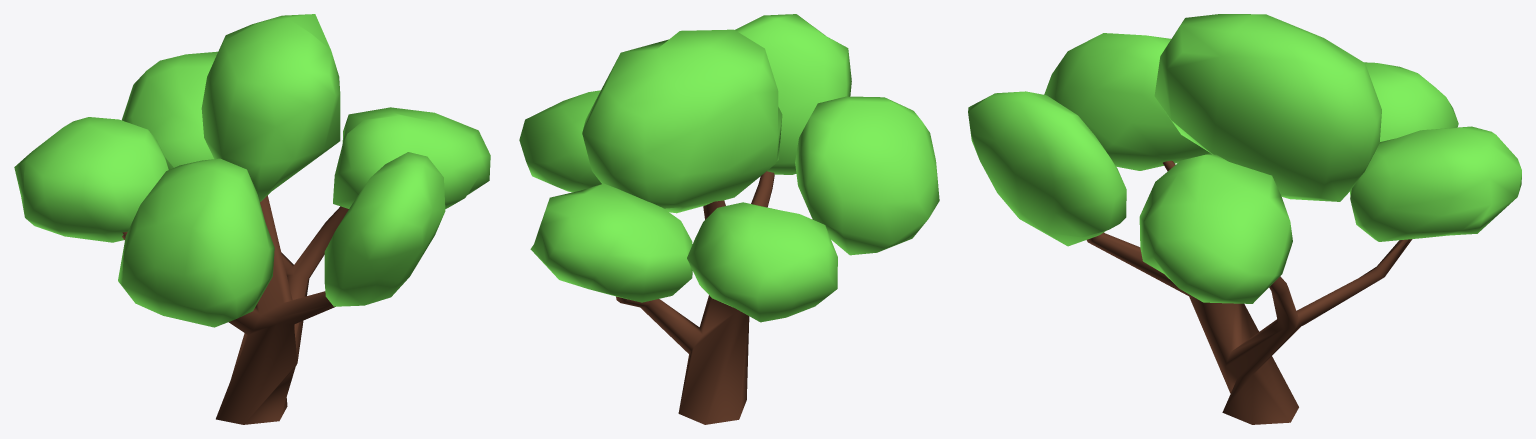
The model's file is Tree04.fbx.
3 views of the same model, side by side, from view 1: azimuth 30°, elevation 25°; view 2: azimuth 150°, elevation 25°; view 3: azimuth 270°, elevation 25° (orthographic). The views are drawn at different scales.
Parts seen in each view (by area): view 1: Tree04; view 2: Tree04; view 3: Tree04.
Boxes of the visible parts, x1,y1,x2,y2 form: Tree04: (14, 14, 490, 424); Tree04: (519, 14, 939, 424); Tree04: (968, 14, 1521, 424).
Bounding box in the file's own units: 465 × 429 × 532.
